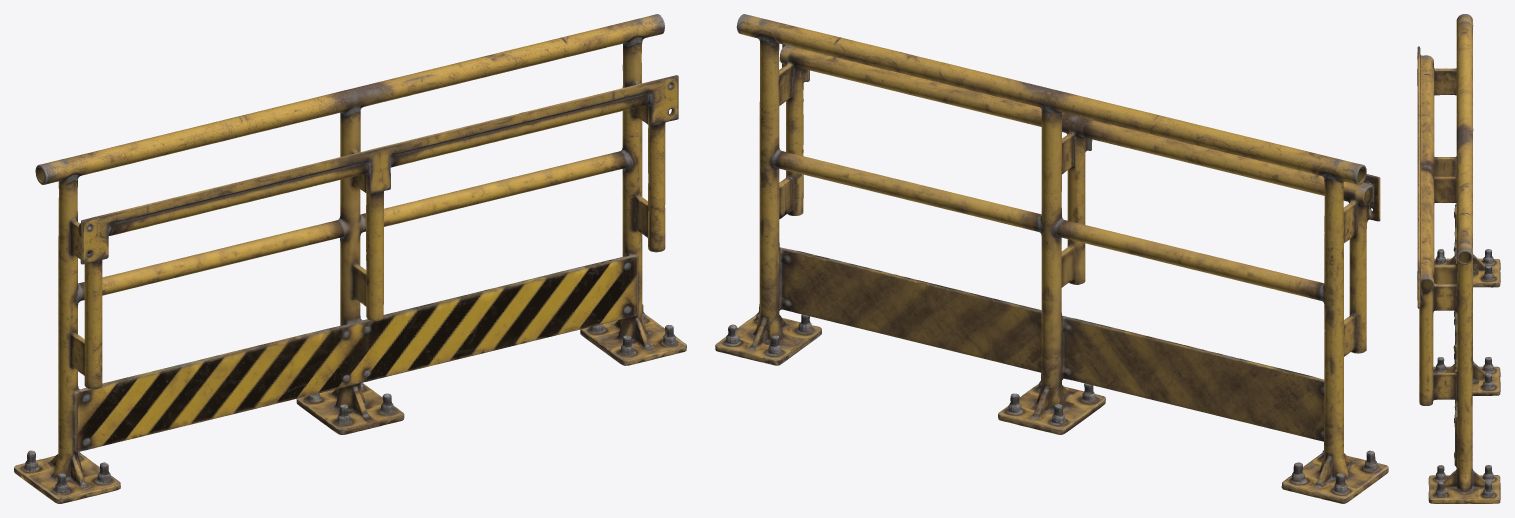
File: modular_safety_railing_barrier.glb
3 renders of one model, left to right at view 1: azimuth 30°, elevation 25°; view 2: azimuth 150°, elevation 25°; view 3: azimuth 270°, elevation 25°, orthographic. The views are drawn at different scales.
Bounding box in the file's own units: 1.9 × 0.923 × 0.2765.
Materials: 1 (1 with a texture image).
